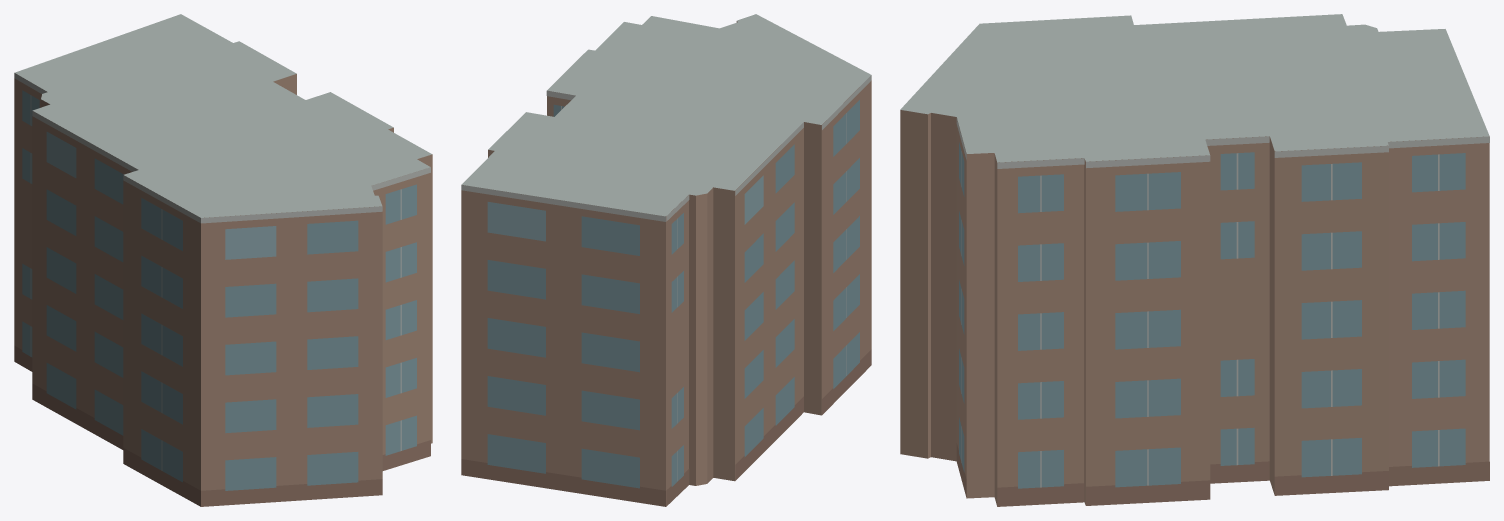
File: survey-upis-32666471.glb
The picture shows the model from 3 angles, left to right: view 1: azimuth 30°, elevation 25°; view 2: azimuth 150°, elevation 25°; view 3: azimuth 270°, elevation 25°; orthographic projection. The views are drawn at different scales.
Parts seen in each view (by area): view 1: survey-upis-32666471.tmp; view 2: survey-upis-32666471.tmp; view 3: survey-upis-32666471.tmp.
Part boxes in pixels (left/top/right/bottom): survey-upis-32666471.tmp: left=14, top=14, right=432, bottom=506; survey-upis-32666471.tmp: left=461, top=14, right=871, bottom=506; survey-upis-32666471.tmp: left=900, top=14, right=1489, bottom=506.
Bounding box in the file's own units: 11.85 × 12.8 × 19.87.
